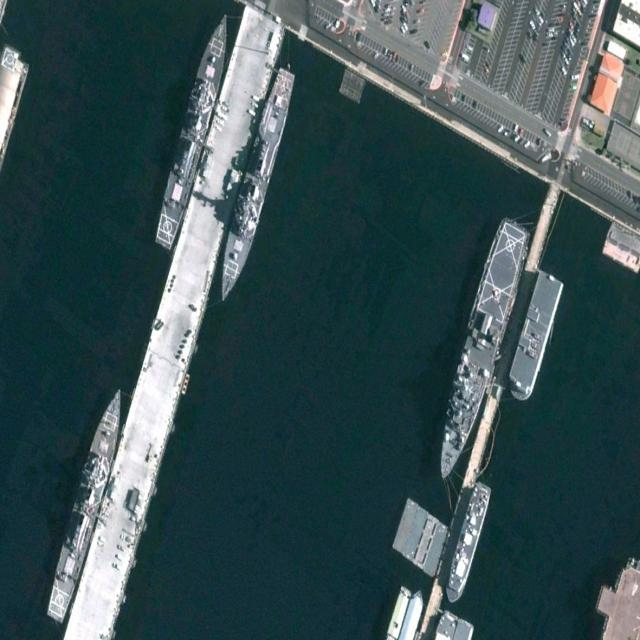Destroyer: (44, 378, 131, 626), (151, 4, 237, 254), (212, 62, 298, 309)
Landing: (428, 208, 532, 491)
Other Ship: (503, 267, 565, 406), (441, 477, 492, 608)
